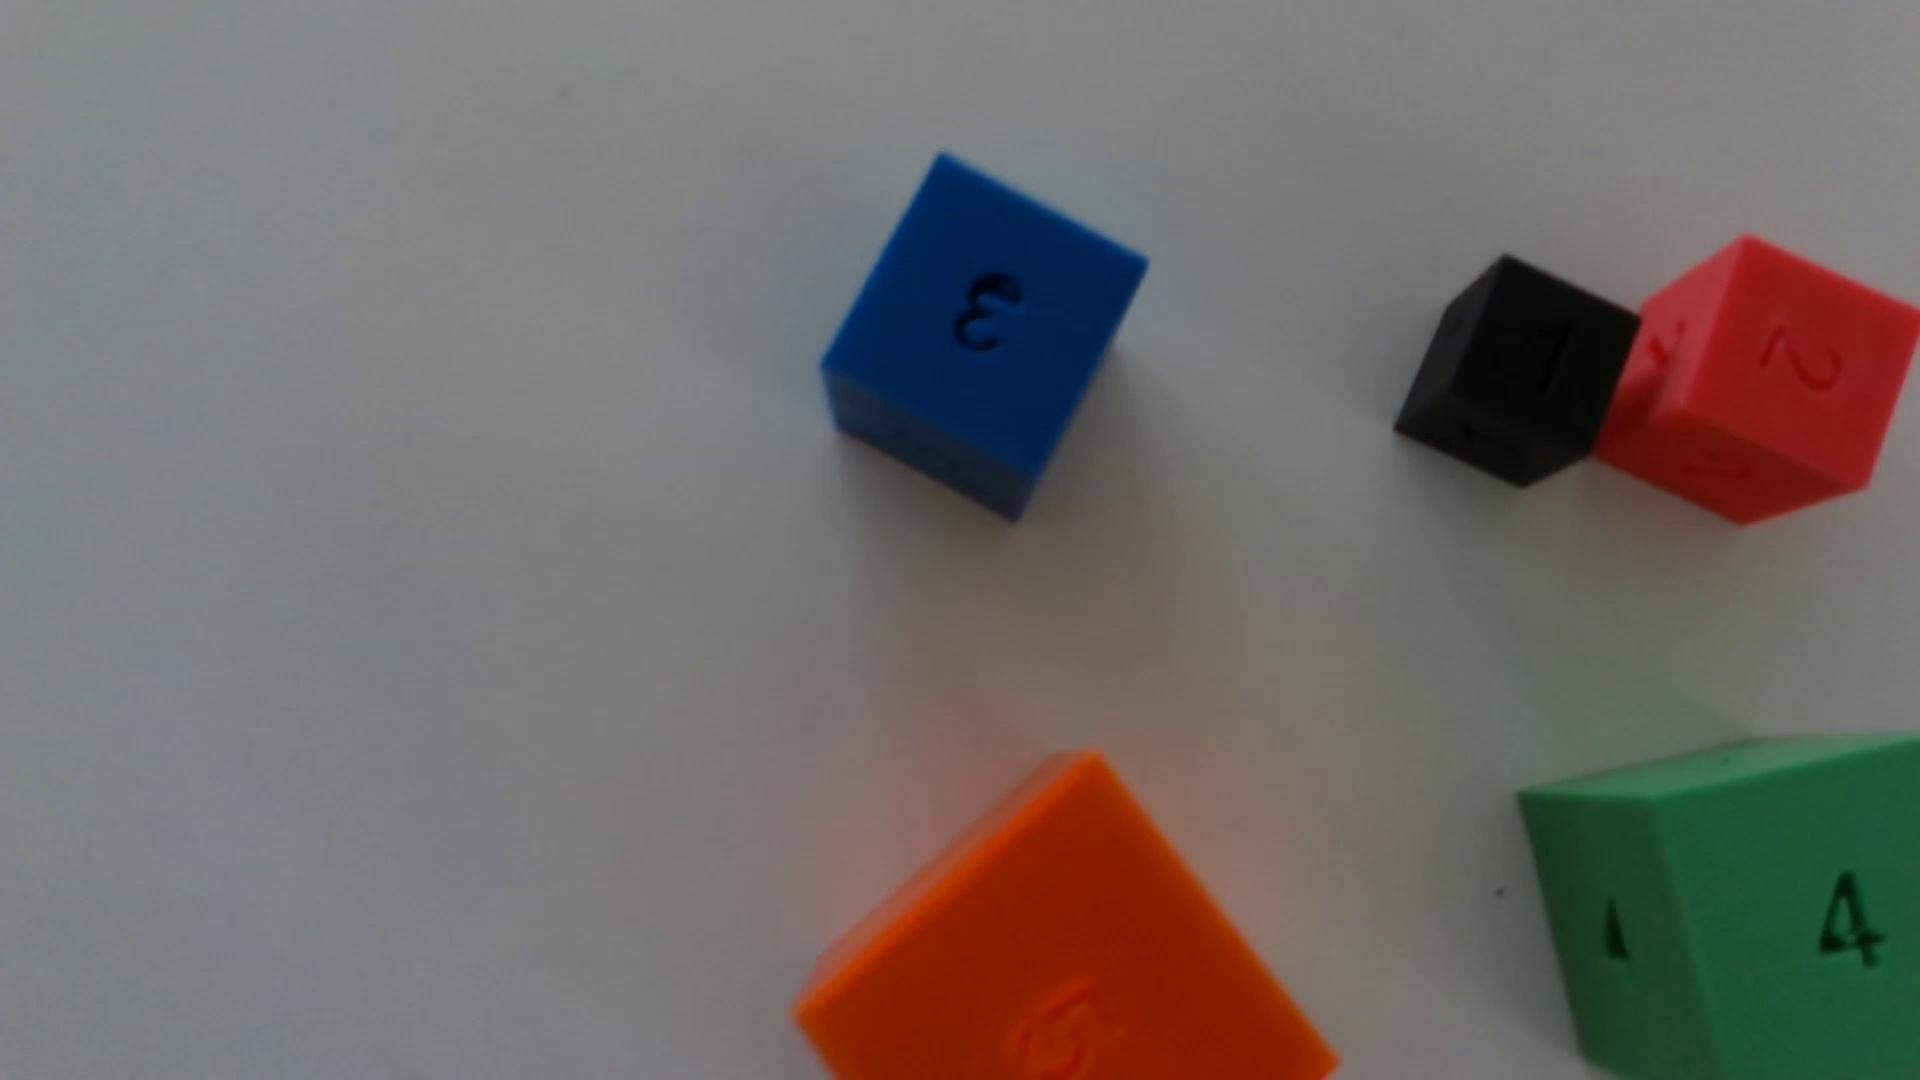black: (1394, 256, 1636, 488)
blue: (822, 156, 1147, 520)
green: (1520, 736, 1920, 1080)
orange: (795, 753, 1337, 1080)
red: (1594, 237, 1920, 526)
